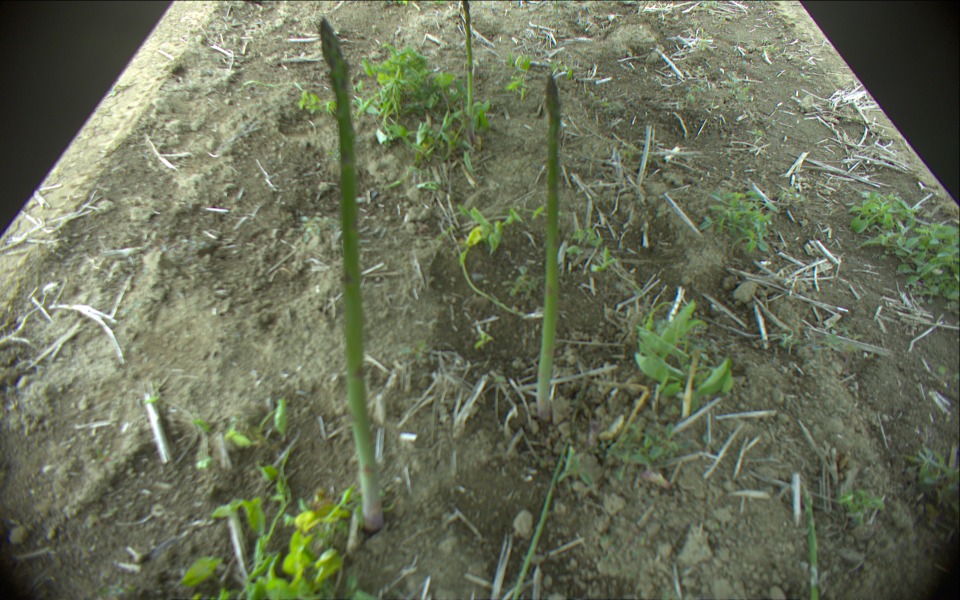aspa: (320, 18, 387, 530), (537, 71, 563, 421), (799, 482, 822, 600), (461, 1, 473, 118)
